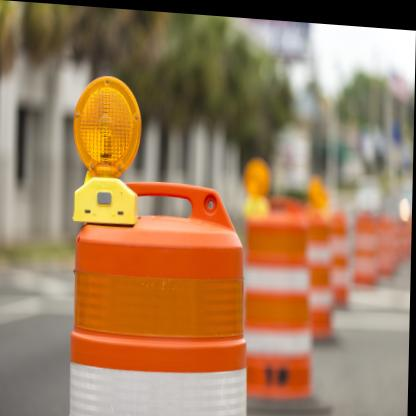obstacle: (50, 165, 262, 416)
